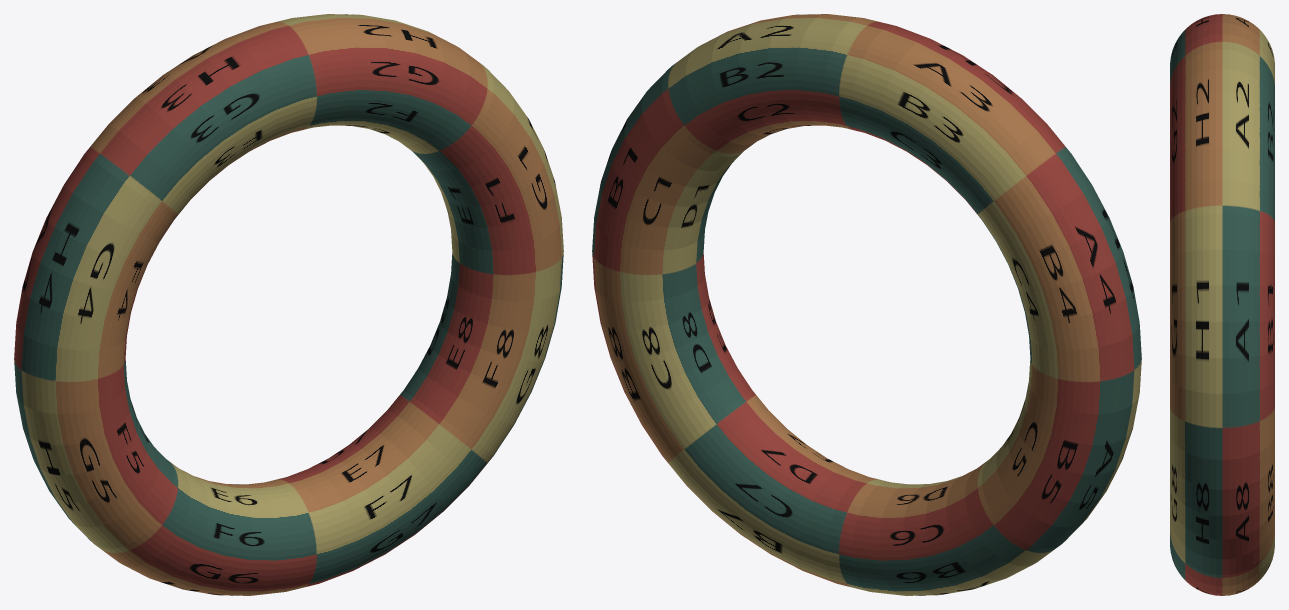
Rendered from texture_torus_R24_r14.glb.
3 renders of one model, left to right at view 1: azimuth 30°, elevation 25°; view 2: azimuth 150°, elevation 25°; view 3: azimuth 270°, elevation 25°, orthographic. The views are drawn at different scales.
Visible parts, largest first — view 1: world; view 2: world; view 3: world.
Part boxes in pixels (box(x1,y1,x2,y2)): world: box(14, 14, 563, 595); world: box(592, 14, 1141, 595); world: box(1170, 14, 1274, 595).
Bounding box in the file's own units: 31.73 × 31.67 × 5.72.
Materials: 1 (1 with a texture image).
